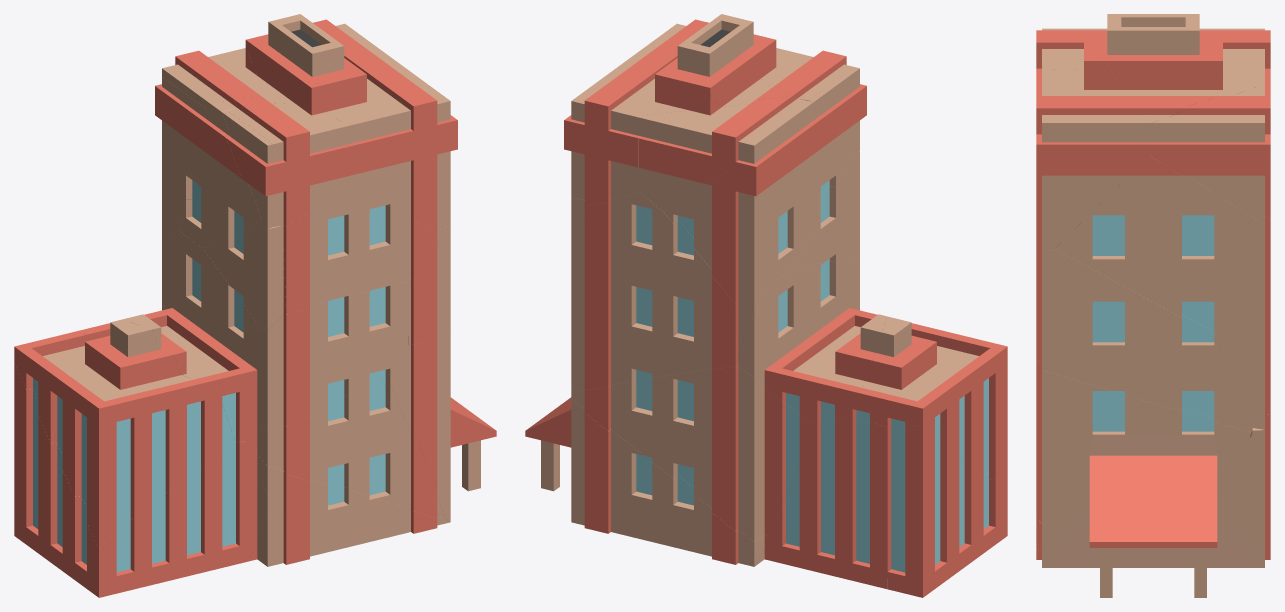
The model's file is BigHouse 4.2 Fractured.fbx.
The picture shows the model from 3 angles, left to right: view 1: azimuth 30°, elevation 25°; view 2: azimuth 150°, elevation 25°; view 3: azimuth 270°, elevation 25°; orthographic projection. The views are drawn at different scales.
Parts seen in each view (by area): view 1: BigHouse_Type4_2_Breaking_cell.002, BigHouse_Type4_2_Breaking_cell.008, BigHouse_Type4_2_Breaking_cell.004, BigHouse_Type4_2_Breaking_cell.021, BigHouse_Type4_2_Breaking_cell.022, BigHouse_Type4_2_Breaking_cell.019, BigHouse_Type4_2_Breaking_cell.001, BigHouse_Type4_2_Breaking_cell.012, BigHouse_Type4_2_Breaking_cell.017, BigHouse_Type4_2_Breaking_cell.020, BigHouse_Type4_2_Breaking_cell.011, BigHouse_Type4_2_Breaking_cell.024 (+8 smaller); view 2: BigHouse_Type4_2_Breaking_cell.016, BigHouse_Type4_2_Breaking_cell.003, BigHouse_Type4_2_Breaking_cell.019, BigHouse_Type4_2_Breaking_cell.002, BigHouse_Type4_2_Breaking_cell.007, BigHouse_Type4_2_Breaking_cell.012, BigHouse_Type4_2_Breaking_cell, BigHouse_Type4_2_Breaking_cell.005, BigHouse_Type4_2_Breaking_cell.010, BigHouse_Type4_2_Breaking_cell.024, BigHouse_Type4_2_Breaking_cell.014, BigHouse_Type4_2_Breaking_cell.023 (+5 smaller); view 3: BigHouse_Type4_2_Breaking_cell.020, BigHouse_Type4_2_Breaking_cell.018, BigHouse_Type4_2_Breaking_cell.015, BigHouse_Type4_2_Breaking_cell.008, BigHouse_Type4_2_Breaking_cell.014, BigHouse_Type4_2_Breaking_cell.024, BigHouse_Type4_2_Breaking_cell, BigHouse_Type4_2_Breaking_cell.016, BigHouse_Type4_2_Breaking_cell.010, BigHouse_Type4_2_Breaking_cell.017.
Boxes of the visible parts, x1,y1,x2,y2 form: BigHouse_Type4_2_Breaking_cell.002: (14, 319, 240, 546); BigHouse_Type4_2_Breaking_cell.008: (325, 63, 457, 233); BigHouse_Type4_2_Breaking_cell.004: (97, 440, 269, 597); BigHouse_Type4_2_Breaking_cell.021: (263, 282, 407, 431); BigHouse_Type4_2_Breaking_cell.022: (245, 379, 445, 518); BigHouse_Type4_2_Breaking_cell.019: (77, 231, 262, 441); BigHouse_Type4_2_Breaking_cell.001: (282, 182, 437, 314); BigHouse_Type4_2_Breaking_cell.012: (14, 363, 97, 596); BigHouse_Type4_2_Breaking_cell.017: (228, 82, 349, 226); BigHouse_Type4_2_Breaking_cell.020: (381, 335, 496, 522); BigHouse_Type4_2_Breaking_cell.011: (252, 453, 448, 552); BigHouse_Type4_2_Breaking_cell.024: (233, 14, 398, 104); BigHouse_Type4_2_Breaking_cell.016: (571, 193, 751, 391); BigHouse_Type4_2_Breaking_cell.003: (571, 365, 816, 541); BigHouse_Type4_2_Breaking_cell.019: (737, 260, 887, 425); BigHouse_Type4_2_Breaking_cell.002: (853, 316, 1007, 485); BigHouse_Type4_2_Breaking_cell.007: (757, 415, 887, 589); BigHouse_Type4_2_Breaking_cell.012: (888, 425, 1005, 597); BigHouse_Type4_2_Breaking_cell: (571, 399, 766, 566); BigHouse_Type4_2_Breaking_cell.005: (664, 122, 800, 318); BigHouse_Type4_2_Breaking_cell.010: (638, 95, 800, 211); BigHouse_Type4_2_Breaking_cell.024: (625, 14, 787, 114); BigHouse_Type4_2_Breaking_cell.014: (564, 62, 644, 206); BigHouse_Type4_2_Breaking_cell.023: (771, 93, 854, 282); BigHouse_Type4_2_Breaking_cell.020: (1036, 360, 1250, 597); BigHouse_Type4_2_Breaking_cell.018: (1036, 249, 1252, 432); BigHouse_Type4_2_Breaking_cell.015: (1055, 156, 1270, 335); BigHouse_Type4_2_Breaking_cell.008: (1036, 40, 1151, 252); BigHouse_Type4_2_Breaking_cell.014: (1150, 87, 1270, 224); BigHouse_Type4_2_Breaking_cell.024: (1087, 14, 1255, 122); BigHouse_Type4_2_Breaking_cell: (1168, 437, 1270, 567); BigHouse_Type4_2_Breaking_cell.016: (1210, 225, 1270, 429); BigHouse_Type4_2_Breaking_cell.010: (1199, 28, 1270, 95); BigHouse_Type4_2_Breaking_cell.017: (1036, 30, 1107, 88).
Size of the model in its own units: 1478 by 1627 by 693.
